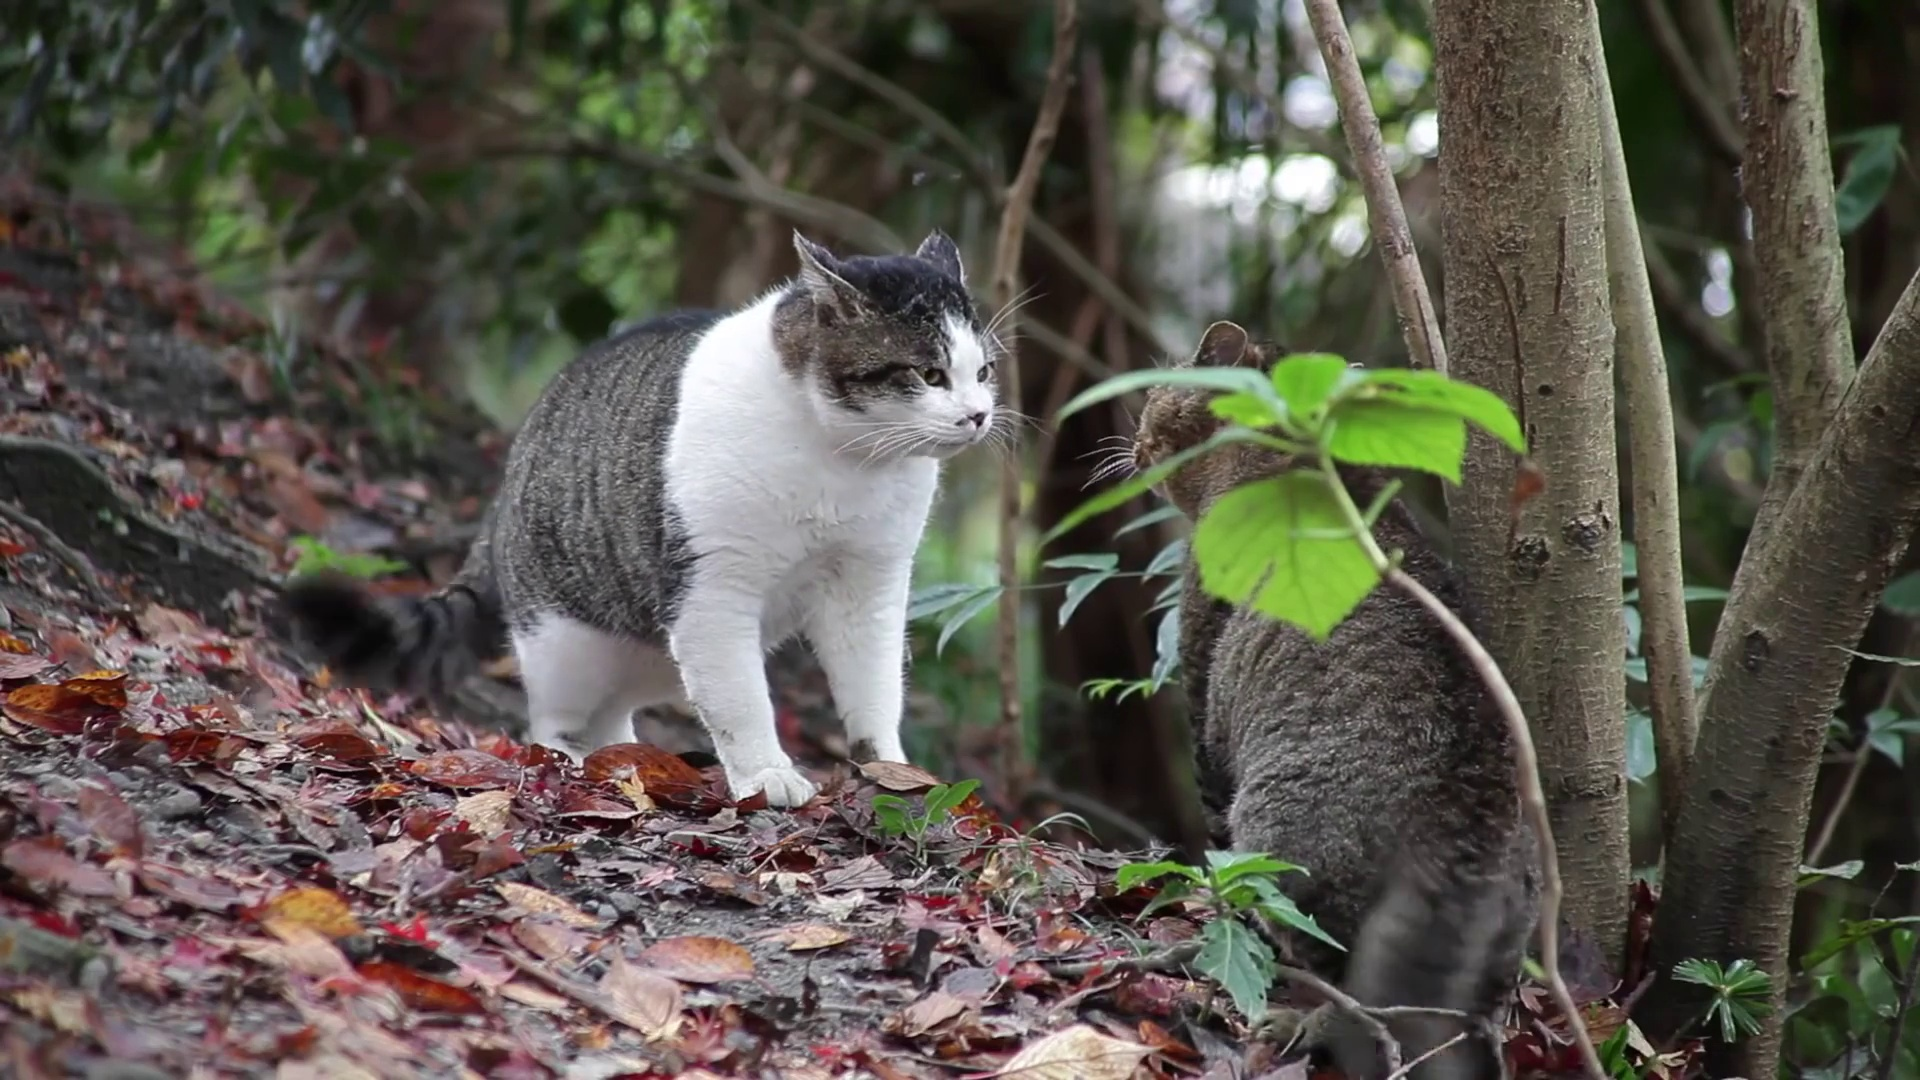black-white: (270, 225, 997, 808)
pure black: (1130, 319, 1538, 1009)
